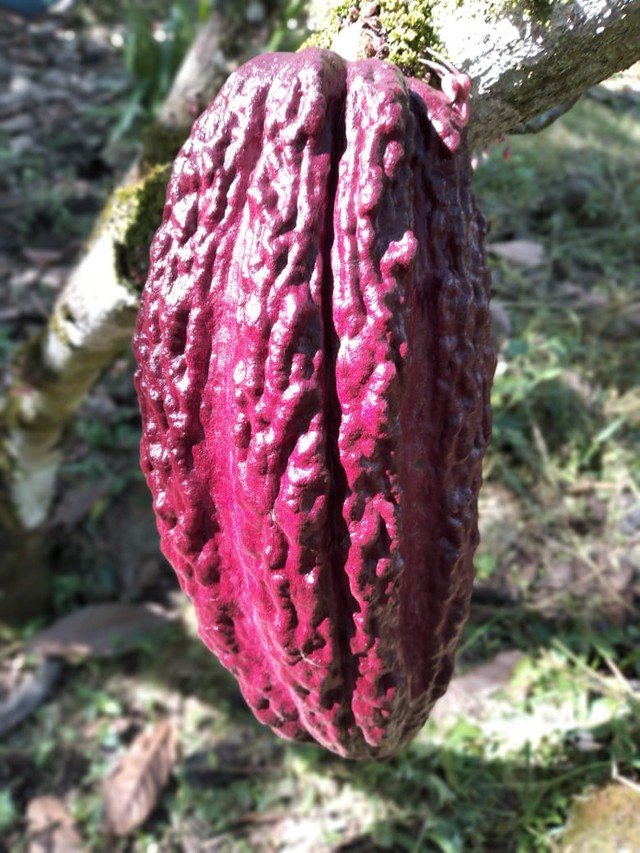Health: (128, 37, 507, 770)
